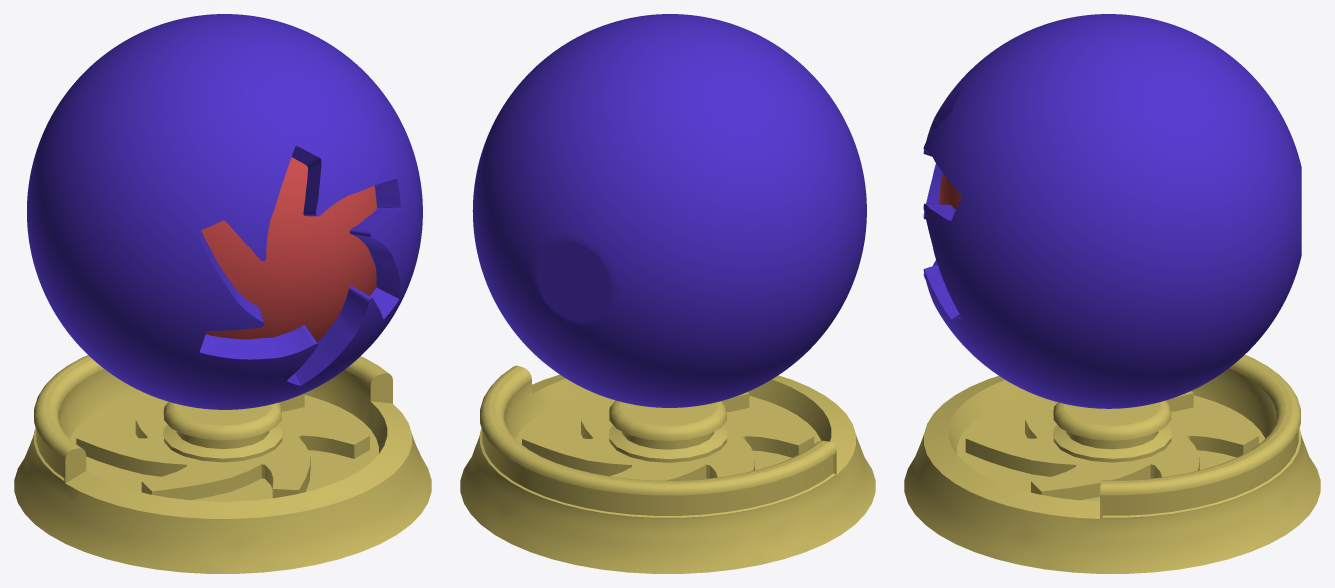
Rendered from render_sphere.obj.
3 views of the same model, side by side, from view 1: azimuth 30°, elevation 25°; view 2: azimuth 150°, elevation 25°; view 3: azimuth 270°, elevation 25° (orthographic).
Visible parts, largest first — view 1: octane, base, ball; view 2: octane, base; view 3: octane, base.
Part boxes in pixels (x1=…): octane: x1=27, y1=14, x2=422, y2=409; base: x1=14, y1=355, x2=431, y2=573; ball: x1=201, y1=157, x2=376, y2=341; octane: x1=472, y1=14, x2=866, y2=407; base: x1=460, y1=365, x2=875, y2=573; octane: x1=923, y1=14, x2=1301, y2=408; base: x1=904, y1=355, x2=1320, y2=573.
Bounding box in the file's own units: 1.42 × 1.7 × 1.42.
